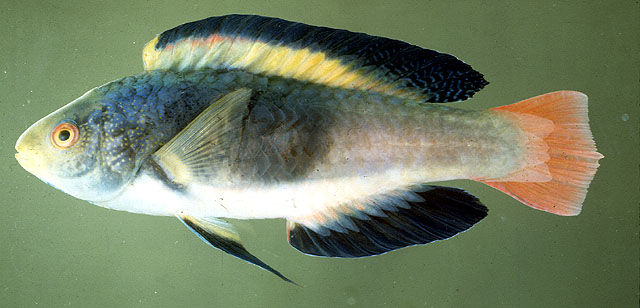fish: (14, 14, 605, 289)
